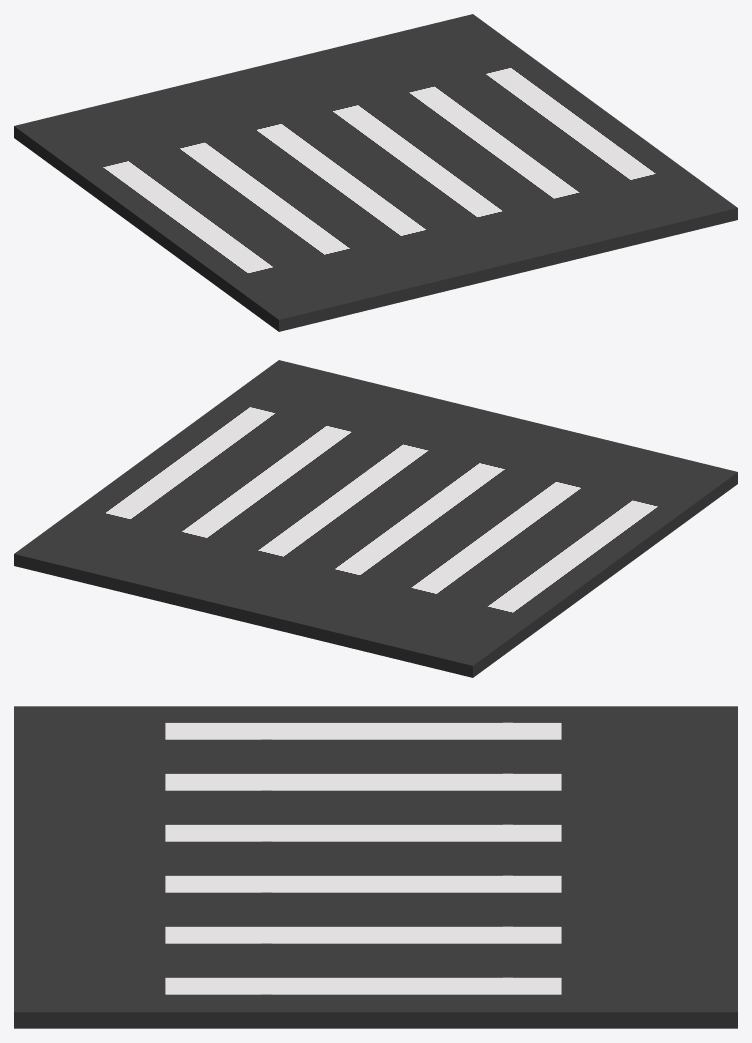
Rendered from Road 03.FBX.
The picture shows the model from 3 angles, top to bottom: view 1: azimuth 30°, elevation 25°; view 2: azimuth 150°, elevation 25°; view 3: azimuth 270°, elevation 25°; orthographic projection. The views are drawn at different scales.
Visible parts, largest first — view 1: Box001; view 2: Box001; view 3: Box001.
Boxes of the visible parts, left/top/right/bottom form: Box001: left=14, top=14, right=737, bottom=331; Box001: left=14, top=360, right=737, bottom=677; Box001: left=14, top=706, right=737, bottom=1028.
Bounding box in the file's own units: 80 × 2 × 80.
